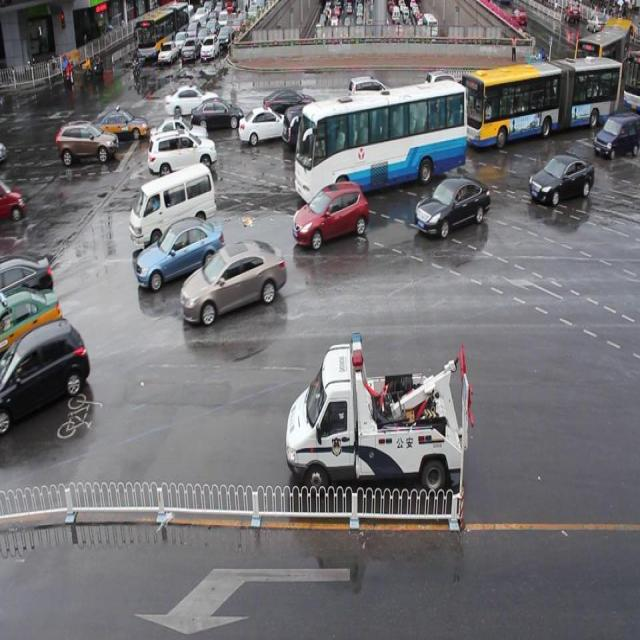bus: (286, 333, 474, 494)
car: (0, 321, 89, 430), (182, 237, 285, 326), (136, 221, 222, 287), (292, 184, 368, 246), (1, 287, 61, 360), (415, 176, 488, 234), (527, 154, 594, 204), (0, 255, 52, 316), (148, 130, 216, 176), (58, 120, 119, 162), (282, 106, 336, 152), (593, 115, 640, 156), (150, 116, 207, 148), (238, 106, 288, 142), (97, 106, 148, 141), (166, 86, 218, 120), (348, 76, 392, 115), (191, 99, 243, 131), (262, 88, 316, 116), (426, 68, 464, 104), (347, 98, 386, 131), (460, 80, 497, 112), (427, 82, 459, 119), (486, 72, 521, 104)
truck: (129, 165, 217, 242)
van: (293, 84, 467, 198), (462, 55, 621, 138)
